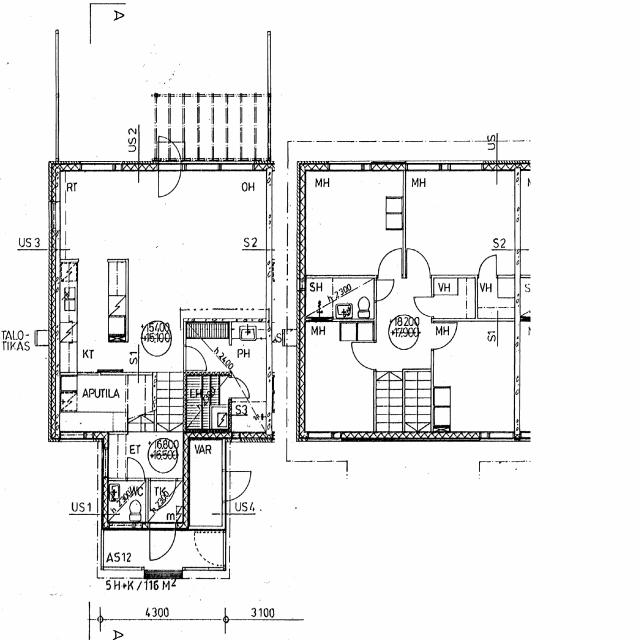door: (150, 523, 176, 561), (222, 471, 252, 501), (158, 161, 182, 198), (150, 478, 176, 512), (158, 135, 182, 171), (378, 248, 402, 278), (407, 248, 430, 278), (351, 343, 376, 370), (431, 324, 456, 349), (183, 347, 206, 370), (478, 254, 497, 279), (228, 378, 249, 398), (374, 280, 394, 300), (414, 296, 434, 316), (128, 458, 144, 482)
